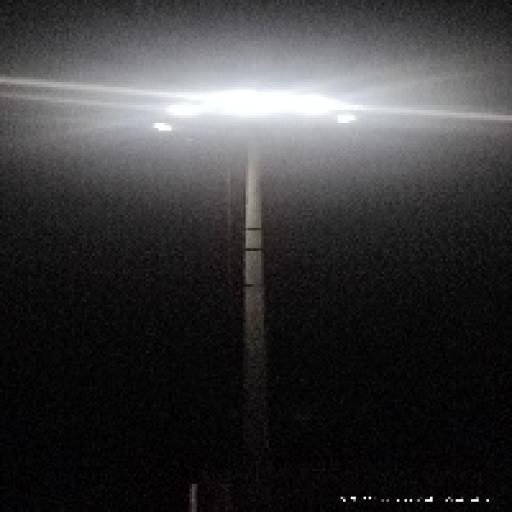Working: (164, 96, 210, 122), (145, 118, 183, 138), (332, 110, 364, 128)
